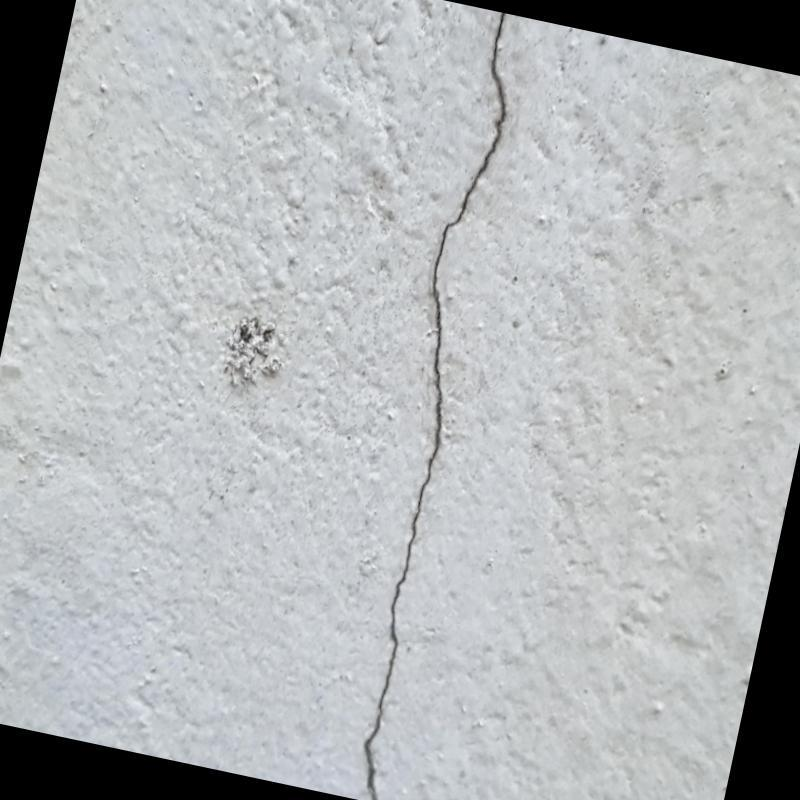pothole: (364, 13, 506, 800)
